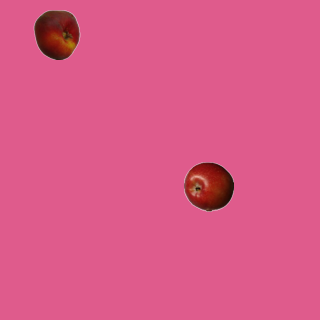Apple Braeburn: (183, 161, 233, 211)
Nectarine Flat: (31, 9, 81, 59)
